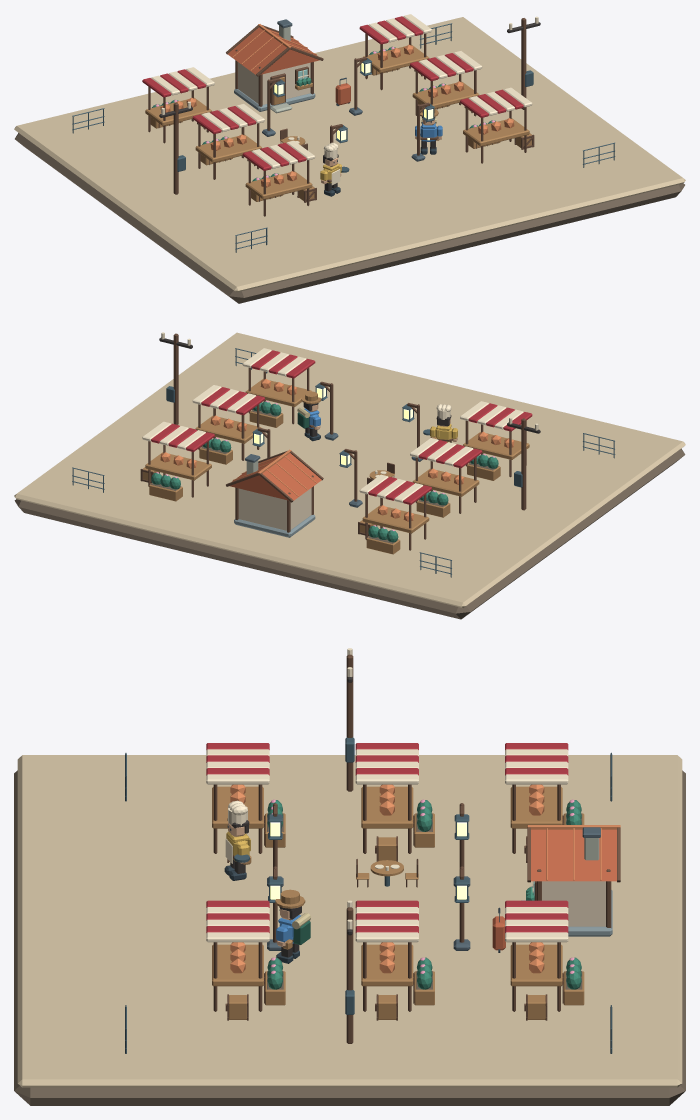
The model's file is world-market.glb.
3 renders of one model, top to bottom at view 1: azimuth 30°, elevation 25°; view 2: azimuth 150°, elevation 25°; view 3: azimuth 270°, elevation 25°, orthographic. The views are drawn at different scales.
Parts seen in each view (by area): view 1: terrain-top, terrain-stratum, cottage-roof.001, plaster-walls.001, counter.001, counter.004, counter.002, counter.005, counter.006, counter.003, utility-post.001, foundation.001; view 2: terrain-top, terrain-stratum, cottage-roof.001, plaster-walls.001, counter.003, counter.006, counter.002, counter.001, counter.005, counter.004, foundation.001, utility-post.001 (+1 smaller); view 3: terrain-top, terrain-stratum, cottage-roof.001, plaster-walls.001, counter.005, counter.006, counter.002, counter.004, counter.003, counter.001, utility-post.001, utility-post.002 (+6 smaller).
Boxes of the visible parts, x1=… form: terrain-top: x1=14, y1=17, x2=685, y2=292; terrain-stratum: x1=15, y1=133, x2=684, y2=303; cottage-roof.001: x1=227, y1=27, x2=319, y2=74; plaster-walls.001: x1=238, y1=62, x2=310, y2=104; counter.001: x1=245, y1=171, x2=312, y2=199; counter.004: x1=463, y1=118, x2=529, y2=146; counter.002: x1=195, y1=134, x2=261, y2=162; counter.005: x1=412, y1=81, x2=479, y2=108; counter.006: x1=363, y1=44, x2=429, y2=72; counter.003: x1=145, y1=97, x2=211, y2=125; utility-post.001: x1=173, y1=102, x2=178, y2=194; foundation.001: x1=234, y1=89, x2=315, y2=111; terrain-top: x1=14, y1=332, x2=685, y2=607; terrain-stratum: x1=14, y1=448, x2=685, y2=619; cottage-roof.001: x1=229, y1=453, x2=321, y2=500; plaster-walls.001: x1=238, y1=488, x2=311, y2=530; counter.003: x1=362, y1=505, x2=429, y2=533; counter.006: x1=145, y1=452, x2=211, y2=480; counter.002: x1=412, y1=468, x2=479, y2=496; counter.001: x1=463, y1=432, x2=529, y2=459; counter.005: x1=195, y1=415, x2=261, y2=443; counter.004: x1=245, y1=378, x2=311, y2=406; foundation.001: x1=234, y1=514, x2=315, y2=537; utility-post.001: x1=521, y1=418, x2=526, y2=510; terrain-top: x1=17, y1=755, x2=682, y2=1087; terrain-stratum: x1=14, y1=770, x2=685, y2=1105; cottage-roof.001: x1=531, y1=829, x2=616, y2=881; plaster-walls.001: x1=542, y1=881, x2=605, y2=926; counter.005: x1=361, y1=944, x2=413, y2=986; counter.006: x1=510, y1=944, x2=562, y2=986; counter.002: x1=361, y1=786, x2=413, y2=828; counter.004: x1=212, y1=944, x2=263, y2=986; counter.003: x1=510, y1=786, x2=562, y2=828; counter.001: x1=212, y1=786, x2=263, y2=828; utility-post.001: x1=346, y1=654, x2=353, y2=791; utility-post.002: x1=346, y1=907, x2=353, y2=1043.
Size of the model in its own units: 21 by 4.89 by 18.
